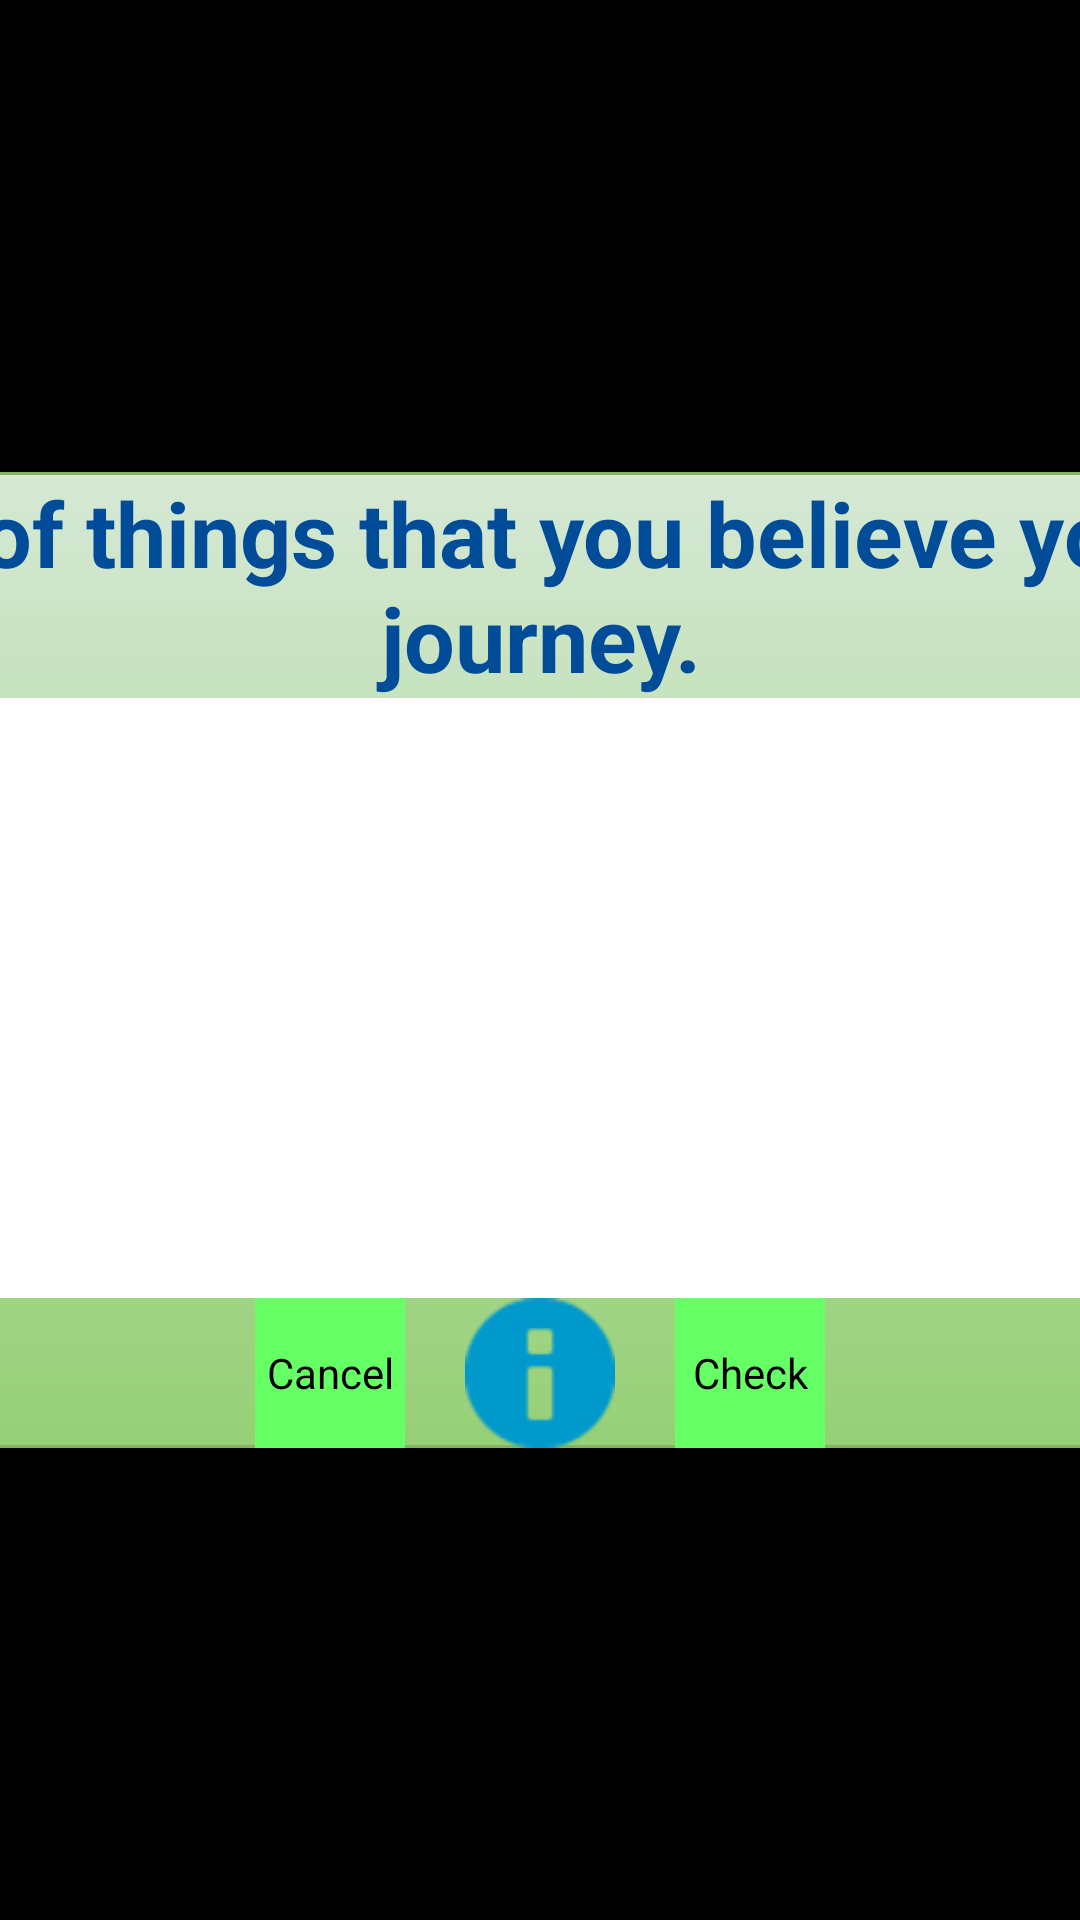

Named icons in this screenshot (1080 x 1920) and their centers, point (x, y):
info: point (540, 1373)
